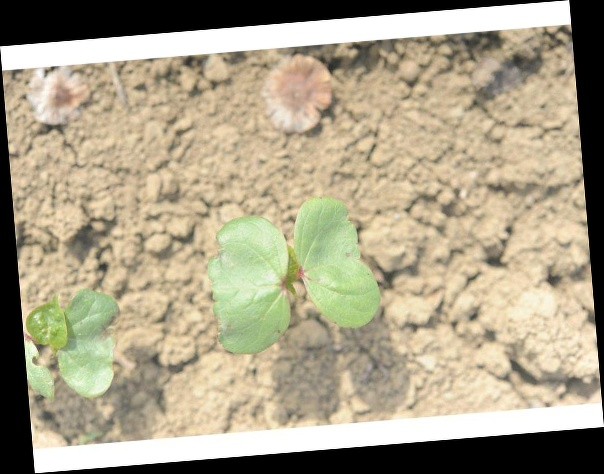cotton: (208, 196, 379, 352), (26, 290, 123, 401)
